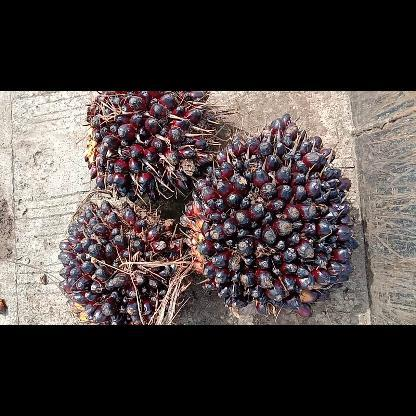TBS mentah: (179, 111, 361, 320), (54, 198, 188, 324), (80, 91, 222, 205)
